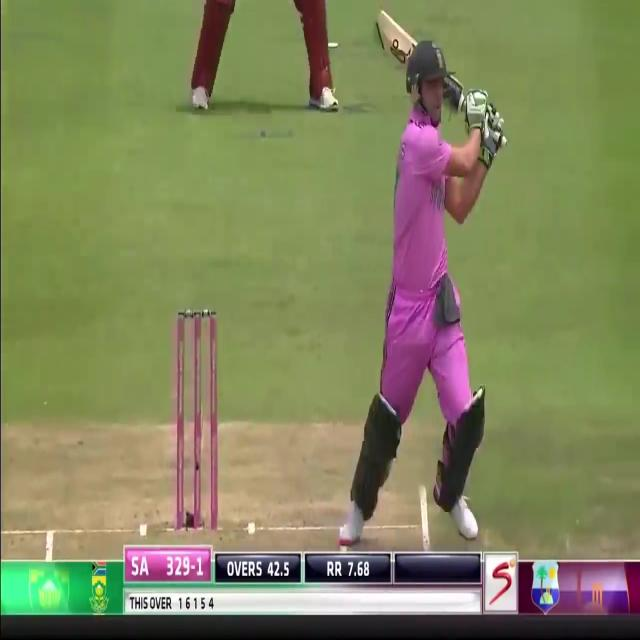Ball: (353, 12, 503, 550)
Fielder: (188, 1, 341, 126)
